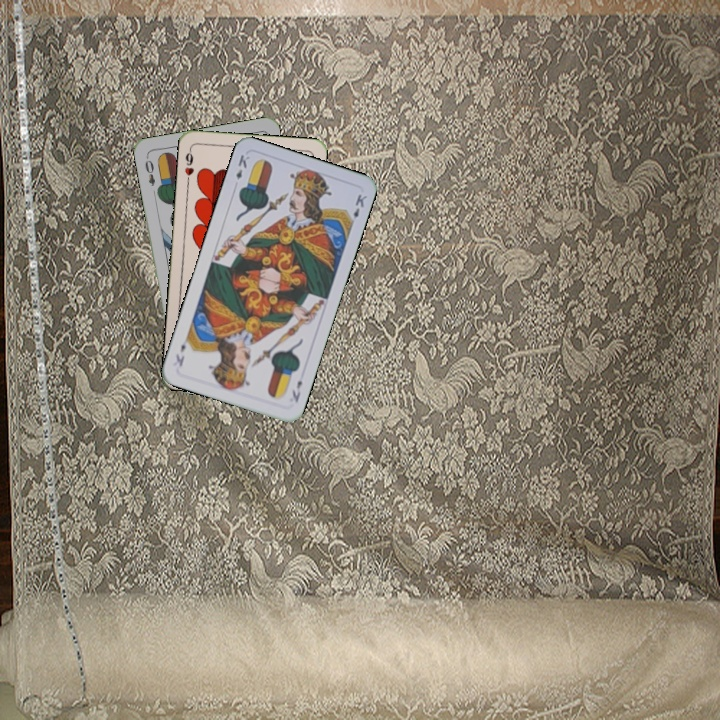EK: (232, 151, 252, 182), (288, 376, 305, 405)
EO: (141, 152, 158, 188)
H9: (181, 145, 196, 185)
